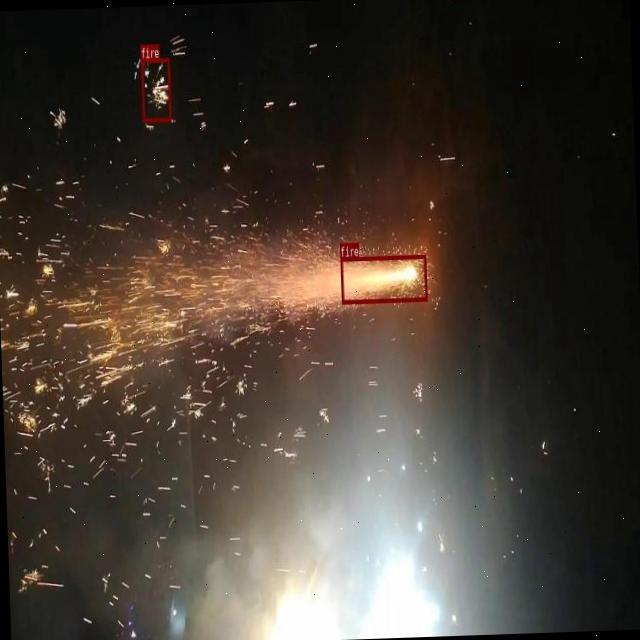fire: (339, 254, 426, 304), (140, 57, 171, 121)
